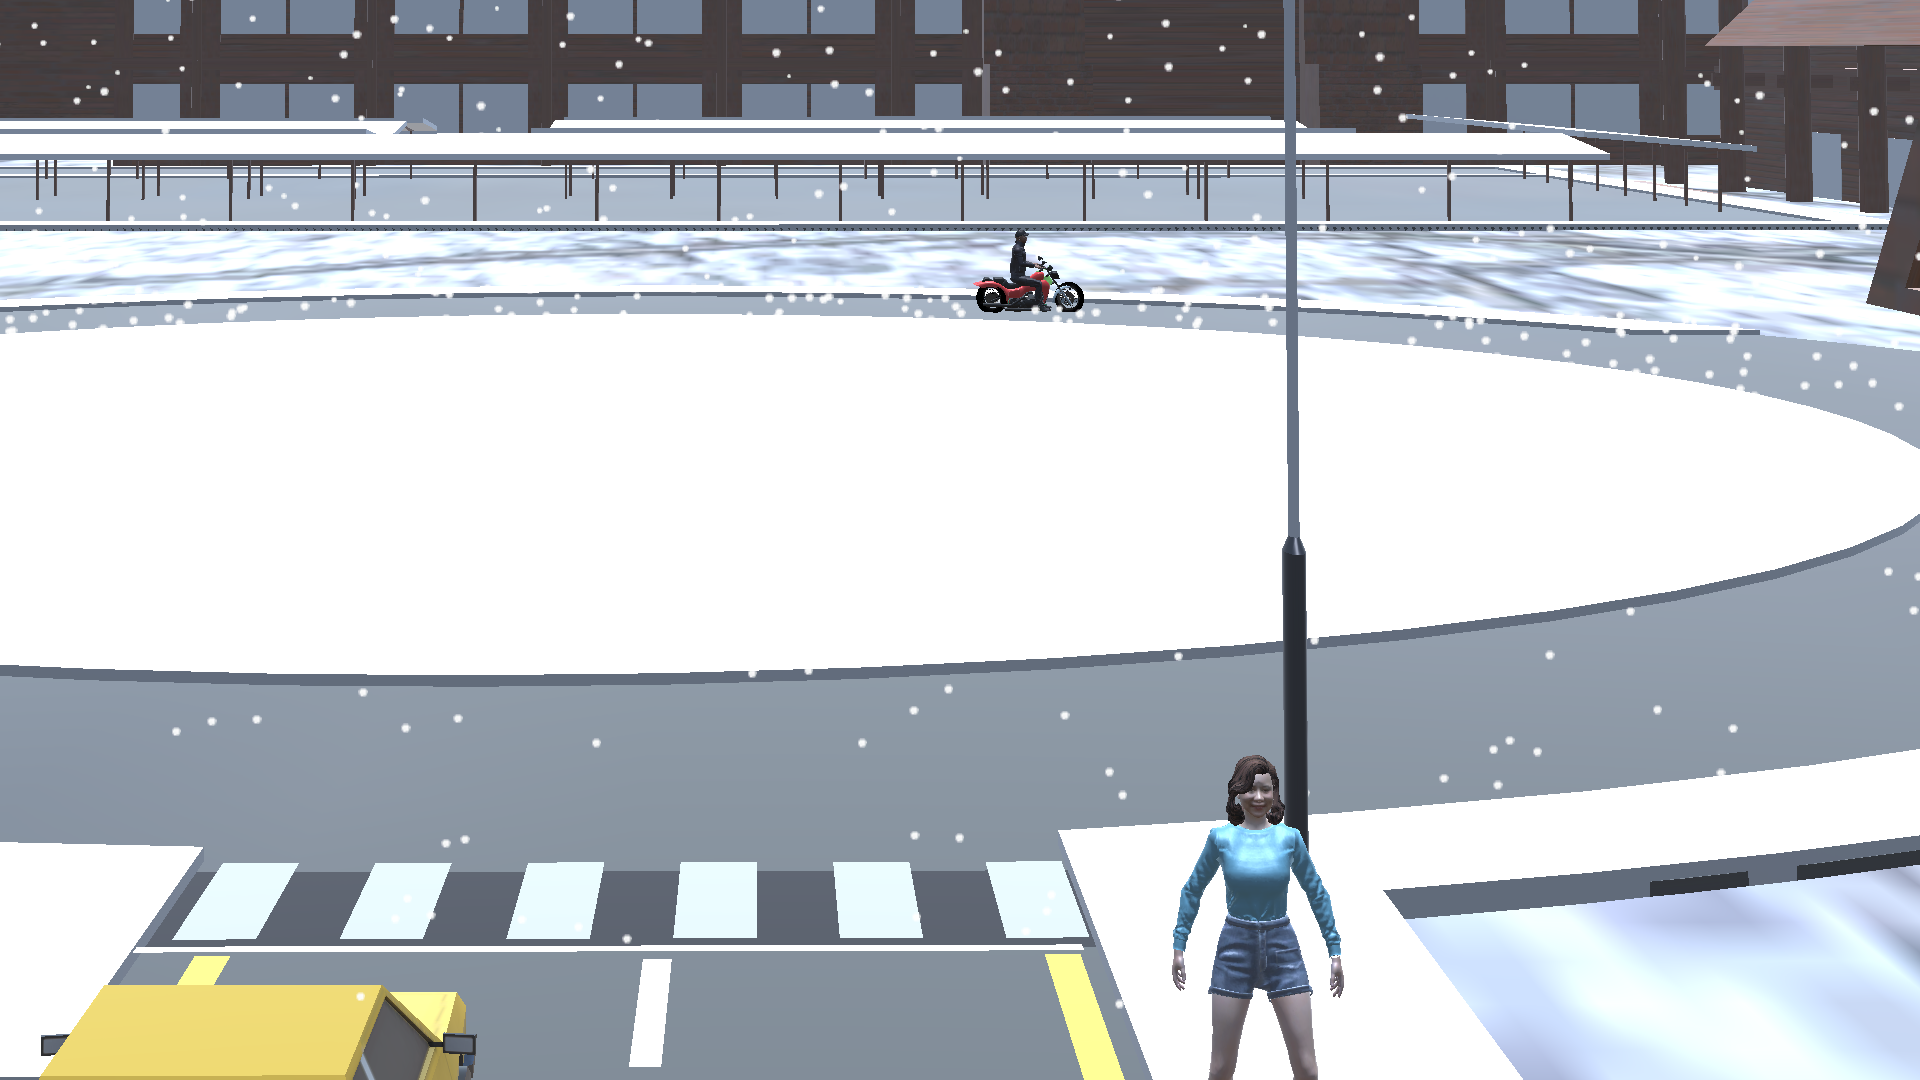pedestrian: (1167, 750, 1349, 1072)
